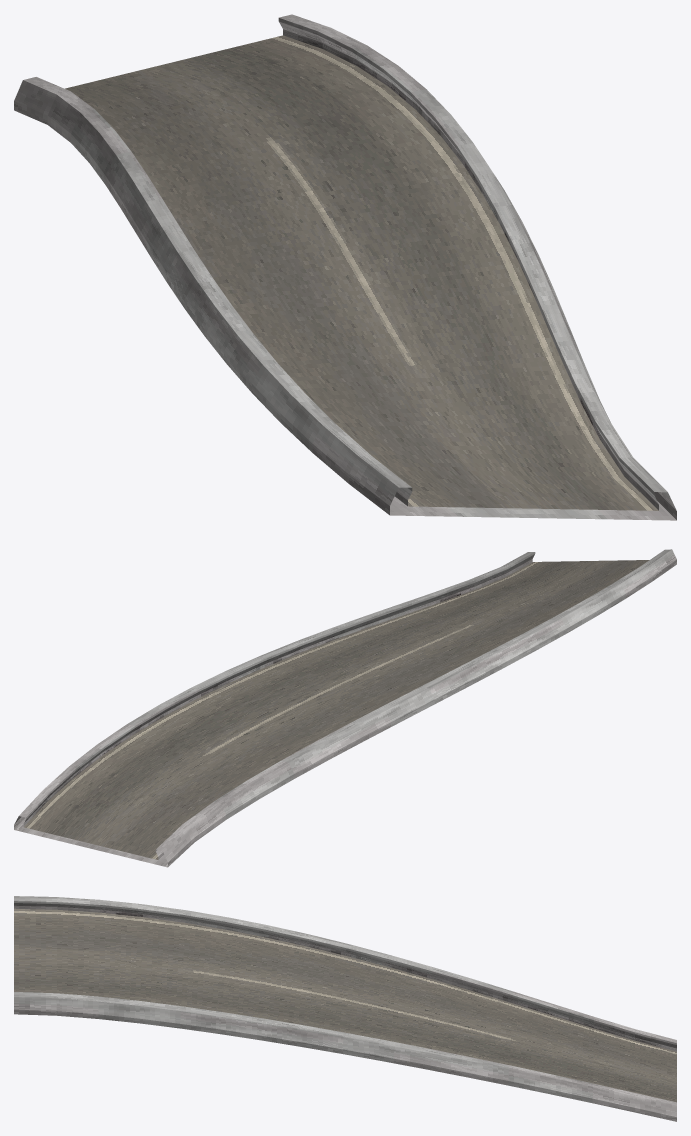
File: chicane-right1x4.glb
The picture shows the model from 3 angles, top to bottom: view 1: azimuth 30°, elevation 25°; view 2: azimuth 150°, elevation 25°; view 3: azimuth 270°, elevation 25°; orthographic projection. The views are drawn at different scales.
Visible parts, largest first — view 1: road-Chicane-HalfBankedRight-BiSlopeDown-Down1-Right1-Size4; view 2: road-Chicane-HalfBankedRight-BiSlopeDown-Down1-Right1-Size4; view 3: road-Chicane-HalfBankedRight-BiSlopeDown-Down1-Right1-Size4.
Boxes of the visible parts, x1,y1,x2,y2 form: road-Chicane-HalfBankedRight-BiSlopeDown-Down1-Right1-Size4: (14, 14, 676, 520); road-Chicane-HalfBankedRight-BiSlopeDown-Down1-Right1-Size4: (14, 549, 676, 867); road-Chicane-HalfBankedRight-BiSlopeDown-Down1-Right1-Size4: (14, 896, 676, 1121).
Size of the model in its own units: 2 by 0.5859 by 4.
Materials: 2 (2 with a texture image).
